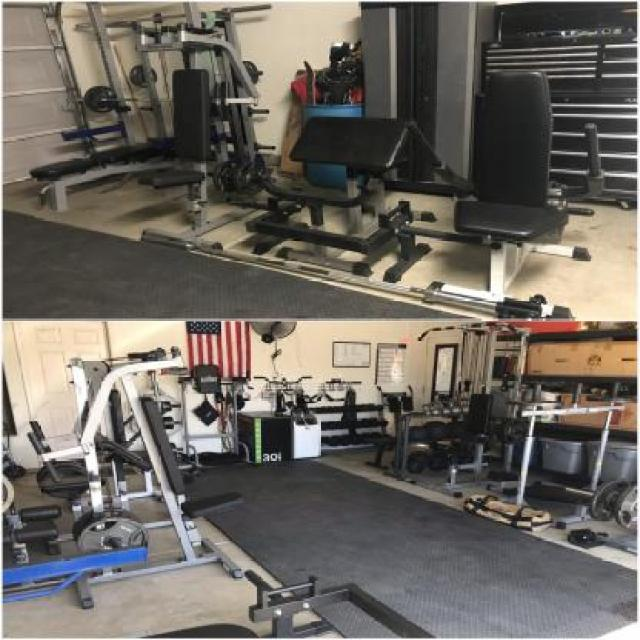seated dip machine: (402, 70, 606, 316)
